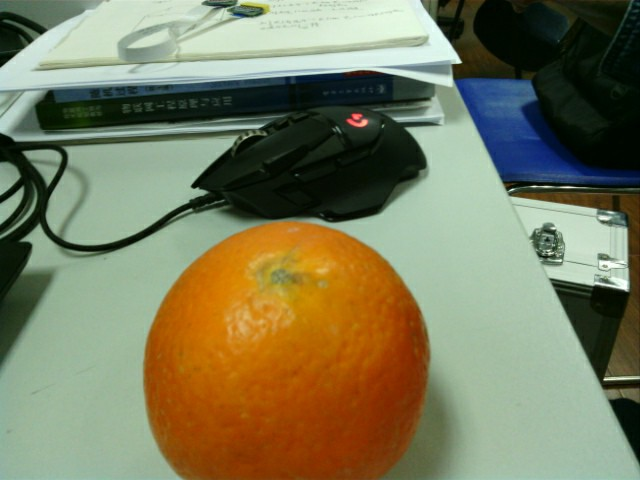normal_orange: (145, 221, 430, 479)
